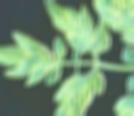Tomato leaf mosaic virus: (42, 0, 112, 59), (0, 34, 67, 87), (38, 70, 107, 116), (83, 0, 134, 55), (95, 82, 134, 116)
